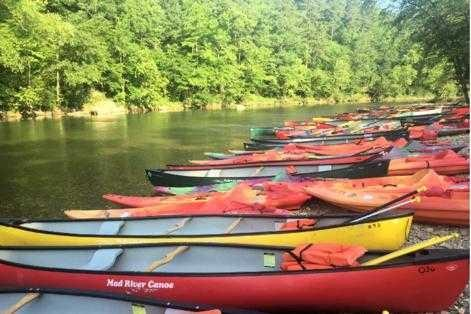kayak: (1, 243, 464, 312), (19, 192, 426, 247), (300, 171, 469, 224), (102, 181, 305, 214), (153, 151, 392, 176), (144, 169, 291, 190), (247, 129, 399, 147), (381, 150, 470, 176), (408, 123, 470, 140)
